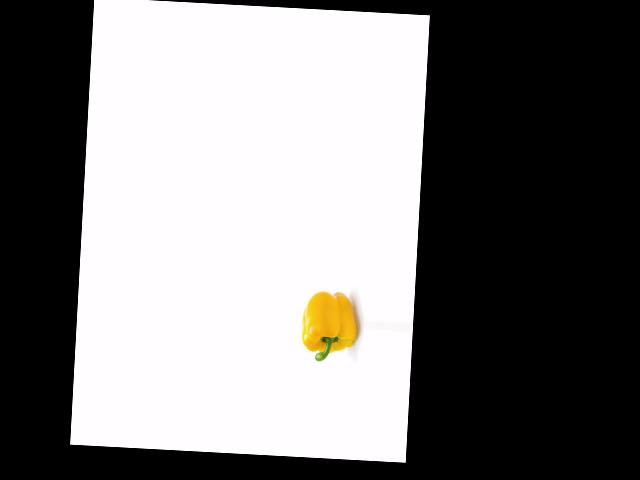bell_pepper: (297, 287, 358, 369)
